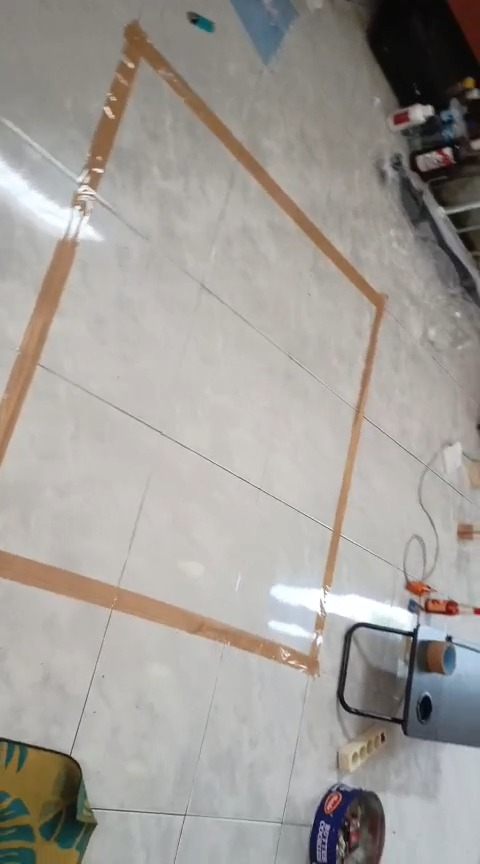floor marking: (0, 21, 386, 588), (0, 550, 325, 675)
